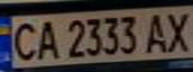2: (63, 16, 87, 60)
3: (118, 11, 142, 56), (81, 15, 106, 57), (100, 14, 124, 56)
A: (142, 10, 172, 55), (33, 17, 60, 61)
C: (3, 19, 42, 62)
X: (160, 8, 193, 53)
